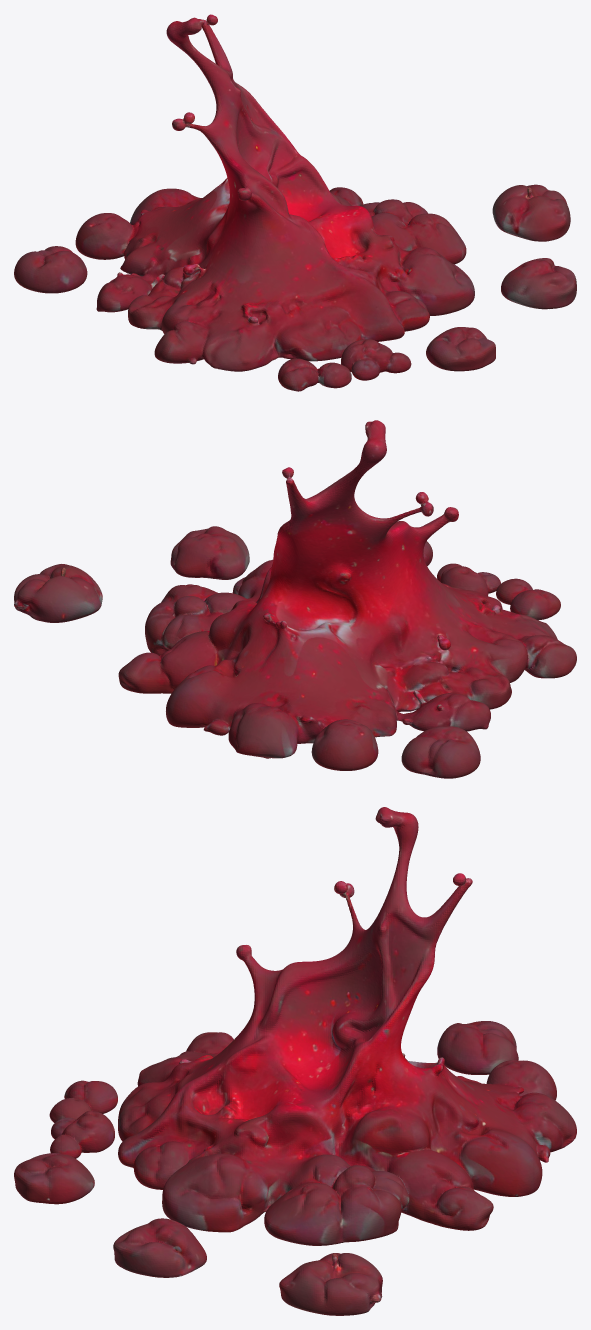
File: sangre.glb
3 views of the same model, one above another, from view 1: azimuth 30°, elevation 25°; view 2: azimuth 150°, elevation 25°; view 3: azimuth 270°, elevation 25° (orthographic). The views are drawn at different scales.
Parts seen in each view (by area): view 1: tripo_node_07a8a018-8fb9-450b-9eea-f4657642f311; view 2: tripo_node_07a8a018-8fb9-450b-9eea-f4657642f311; view 3: tripo_node_07a8a018-8fb9-450b-9eea-f4657642f311.
Boxes of the visible parts, x1,y1,x2,y2 form: tripo_node_07a8a018-8fb9-450b-9eea-f4657642f311: (14,14,576,391); tripo_node_07a8a018-8fb9-450b-9eea-f4657642f311: (14,420,576,778); tripo_node_07a8a018-8fb9-450b-9eea-f4657642f311: (14,807,576,1315).
Size of the model in its own units: 1 by 0.53 by 0.8632.
Materials: 1 (1 with a texture image).
